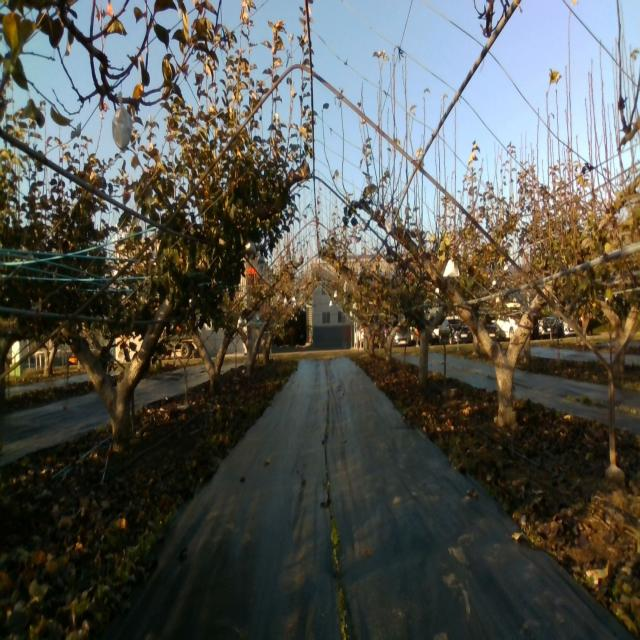pearbags: (111, 91, 132, 153), (442, 256, 460, 277), (384, 213, 396, 235), (244, 234, 256, 253)
